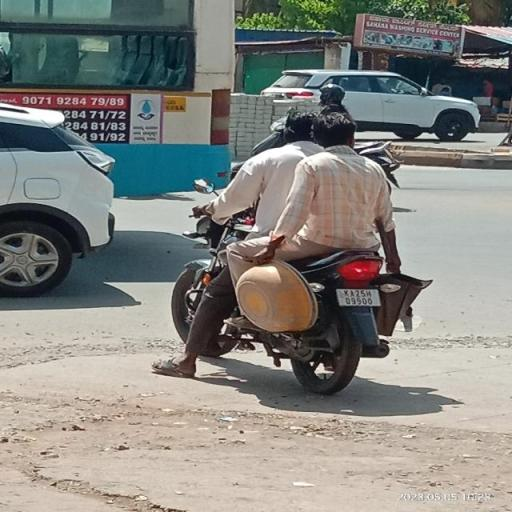bike: (166, 110, 415, 400)
numberplate: (336, 286, 382, 308)
withouthelmet: (318, 112, 356, 146), (286, 112, 317, 139)
